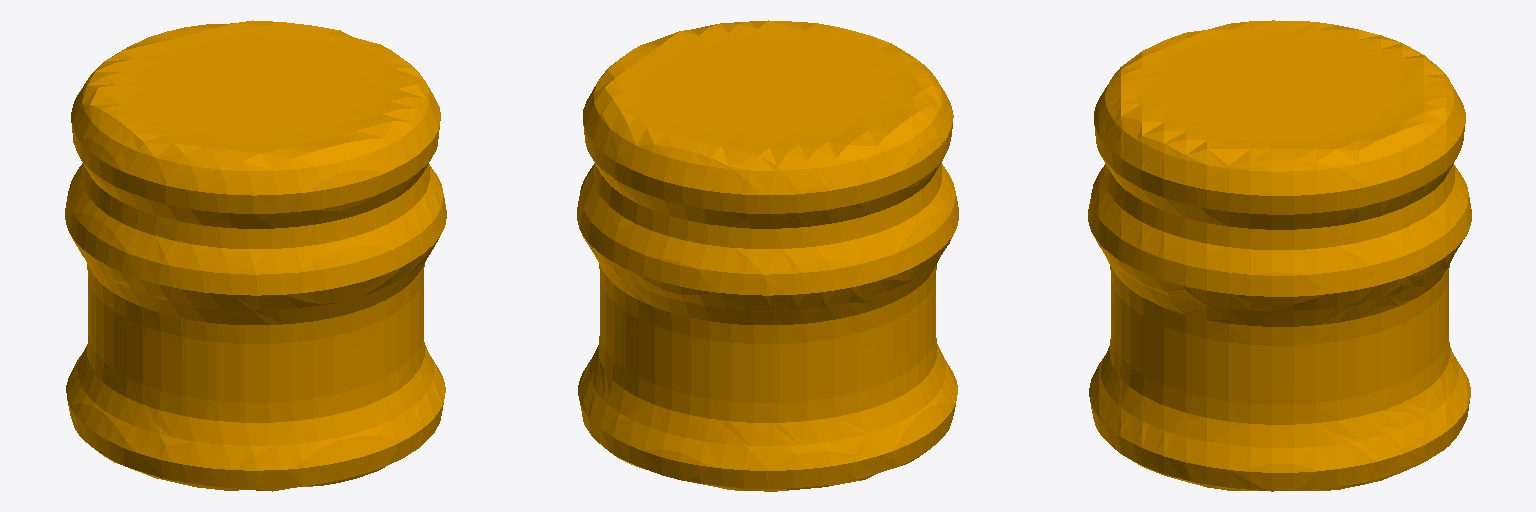
robot.urdf — cylinder_../../meshes/cylinders/cylinder_160.stl:
<?xml version="1.0" encoding="utf-8"?>  <robot name="cylinder_../../meshes/cylinders/cylinder_160.stl">   <link name="cylinder_../../meshes/cylinders/cylinder_160.stl">     <visual>       <geometry>         <mesh filename="../meshes/cylinders/cylinder_160.stl" scale="1 1 1"/>       </geometry>     </visual>     <collision>       <geometry>         <mesh filename="../meshes/cylinders/cylinder_160.stl" scale="1 1 1"/>       </geometry>     </collision>     <inertial>        <origin         xyz="0 0 0"         rpy="0 0 0" />       <mass value="0.43352640000433584"/>       <origin rpy="0 0 0" xyz="0 0 0"/>       <inertia ixx="0.00043494876572633894" ixy="-8.428564624821615e-08" ixz="4.951255495257735e-08" iyy="0.0004349410334460301" iyz="4.8079767528278044e-08" izz="0.00037251350648426196"/>     </inertial>   </link>  </robot>

--- What the picture shows (computed from the rendered views, not written in the file) ---
3 views of the same robot in one strip: view 1: azimuth 30°, elevation 25°; view 2: azimuth 150°, elevation 25°; view 3: azimuth 270°, elevation 25° (orthographic).
Robot: cylinder_../../meshes/cylinders/cylinder_160.stl — 1 links, 0 joints (none); root link cylinder_../../meshes/cylinders/cylinder_160.stl; default pose: every joint at zero.
Visible links, largest first — view 1: cylinder_../../meshes/cylinders/cylinder_160.stl; view 2: cylinder_../../meshes/cylinders/cylinder_160.stl; view 3: cylinder_../../meshes/cylinders/cylinder_160.stl.
Link boxes in pixels (box(x1,y1,x2,y2)): cylinder_../../meshes/cylinders/cylinder_160.stl: box(65, 20, 446, 491); cylinder_../../meshes/cylinders/cylinder_160.stl: box(577, 20, 958, 491); cylinder_../../meshes/cylinders/cylinder_160.stl: box(1088, 20, 1471, 491).
Bounding box of the posed robot: 0.0887 × 0.0887 × 0.085 m (x, y, z).
1 mesh visuals loaded from 1 distinct referenced files (1 binary STL).